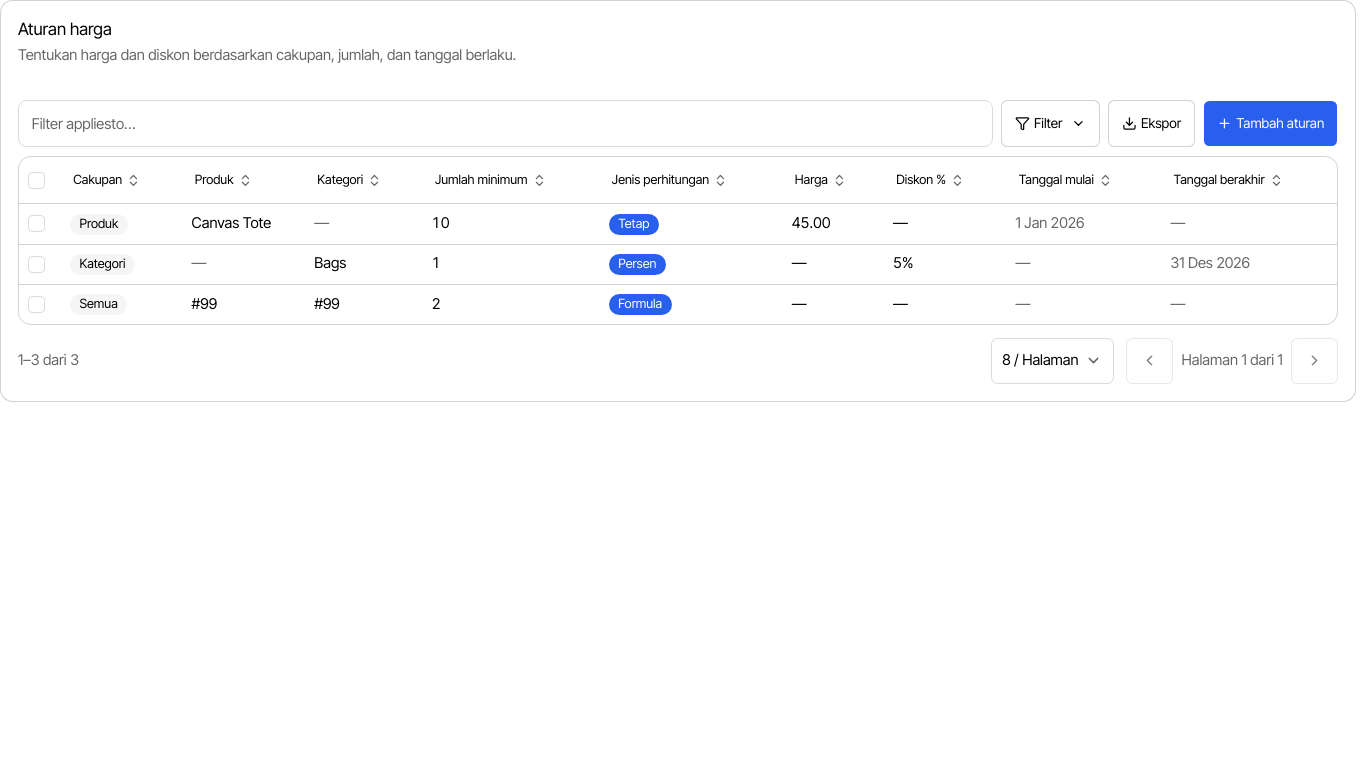
Test case: PriceBookDetail branches › opens the create dialog
Check: the text "Canvas Tote" is shown, box [192,214,271,232]
Click the button "Tambah aturan": (1271, 124) [1203,100,1338,147]
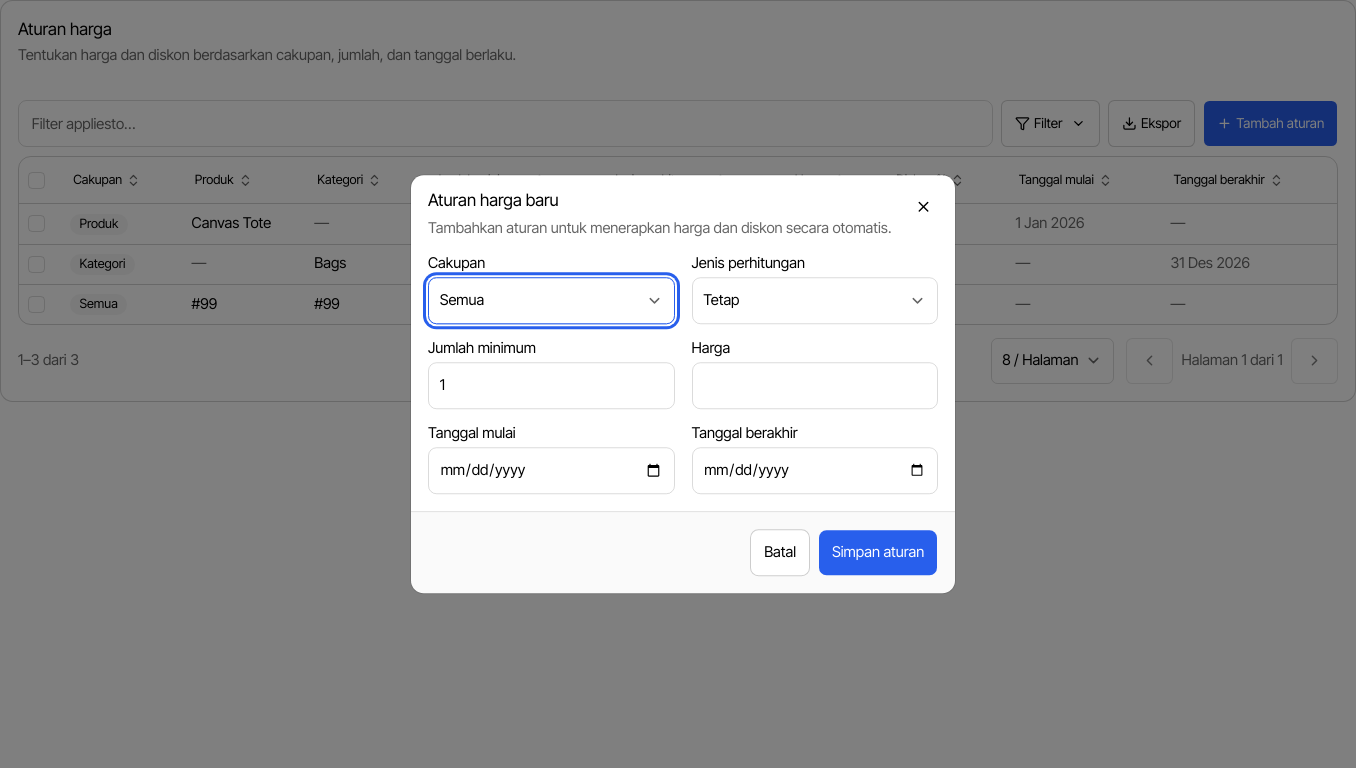
Check: the heading "Aturan harga baru" is shown, box [428,190,559,210]
